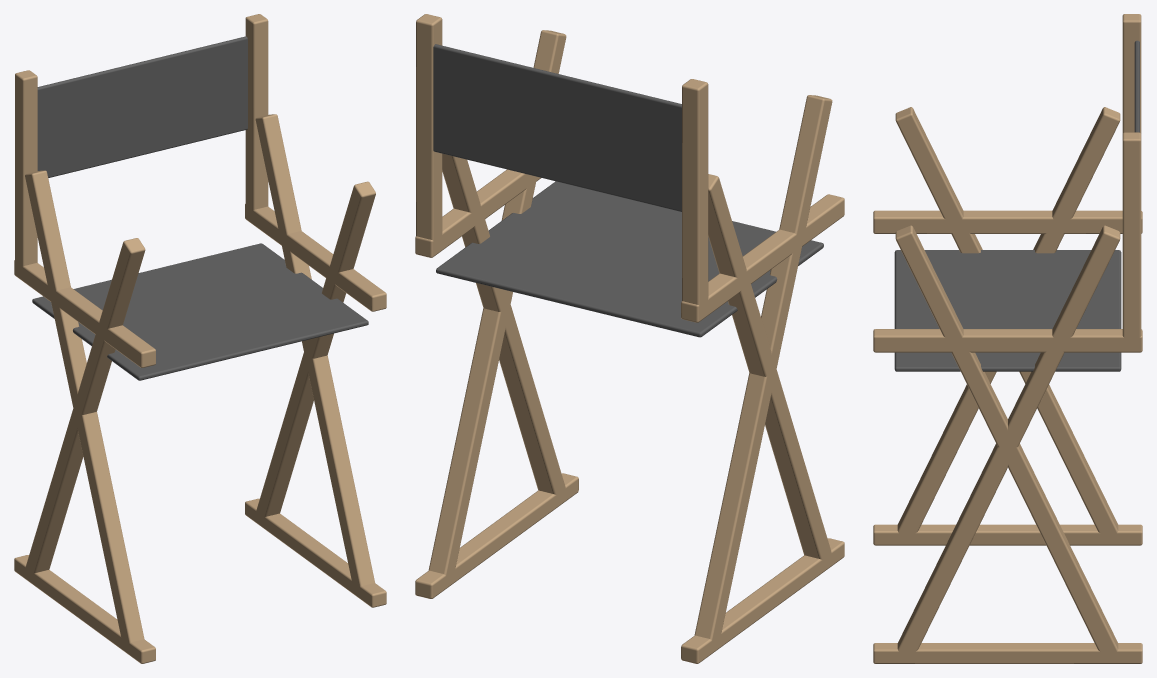
The model's file is SM_DirectorsChair.fbx.
3 views of the same model, side by side, from view 1: azimuth 30°, elevation 25°; view 2: azimuth 150°, elevation 25°; view 3: azimuth 270°, elevation 25° (orthographic). The views are drawn at different scales.
Parts seen in each view (by area): view 1: SM_DirectorsChair; view 2: SM_DirectorsChair; view 3: SM_DirectorsChair.
Boxes of the visible parts, x1,y1,x2,y2 form: SM_DirectorsChair: (14,14,386,663); SM_DirectorsChair: (415,14,844,663); SM_DirectorsChair: (873,14,1142,663).
Bounding box in the file's own units: 0.555 × 1.08 × 0.5.
